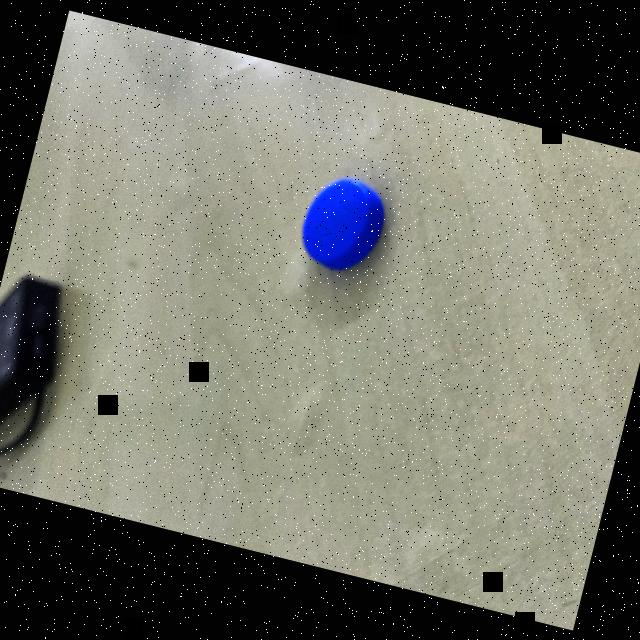plastic_bottle_cap: (276, 165, 406, 298)
